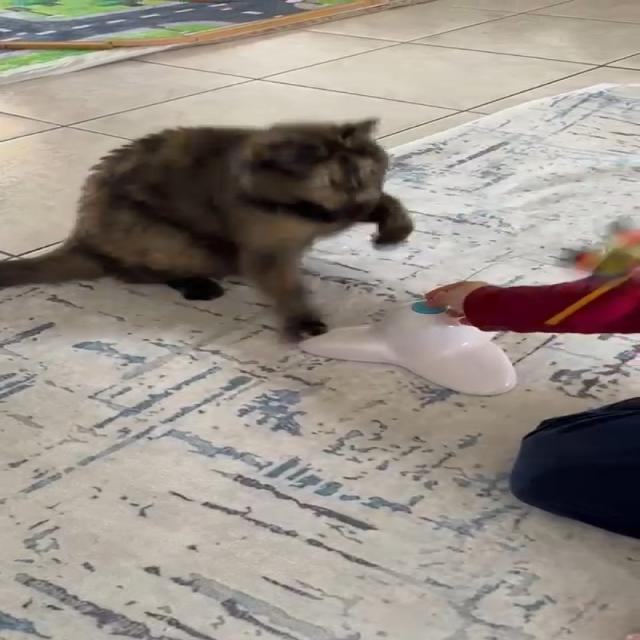authorized: (0, 115, 413, 342)
